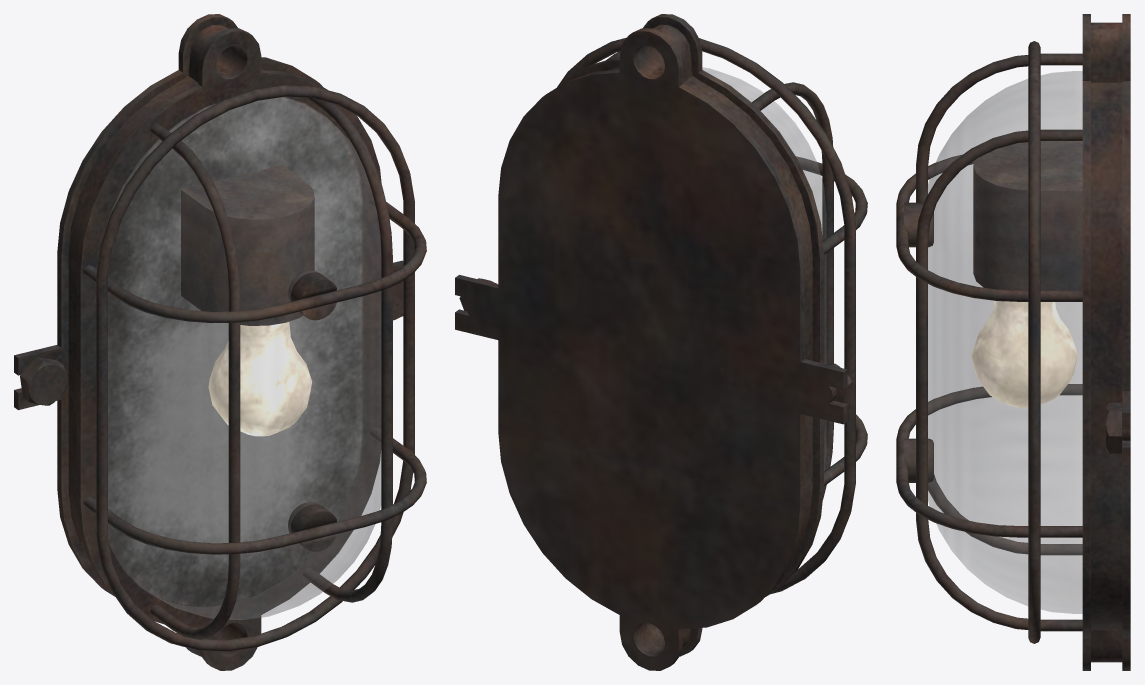
The model's file is bayview-walllamp.glb.
3 views of the same model, side by side, from view 1: azimuth 30°, elevation 25°; view 2: azimuth 150°, elevation 25°; view 3: azimuth 270°, elevation 25° (orthographic).
Visible parts, largest first — view 1: industrial_wall_lamp; view 2: industrial_wall_lamp; view 3: industrial_wall_lamp.
Boxes of the visible parts, bbox=[...] form: industrial_wall_lamp: bbox=[14, 14, 426, 670]; industrial_wall_lamp: bbox=[455, 14, 867, 670]; industrial_wall_lamp: bbox=[896, 14, 1130, 670].
Size of the model in its own units: 0.2735 by 0.4299 by 0.1404.
2 materials, 2 textured.
